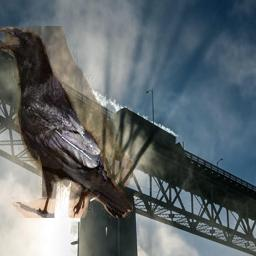Crow: (0, 26, 133, 218)
